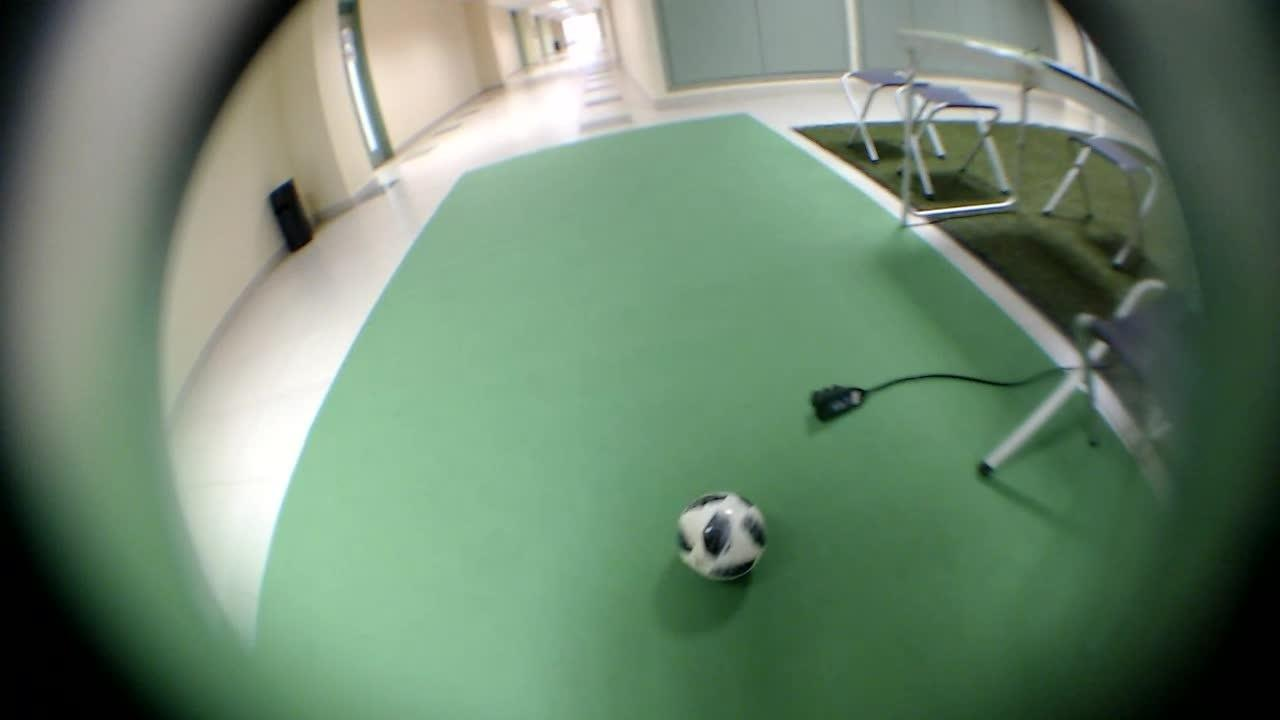ball: (665, 479, 774, 596)
